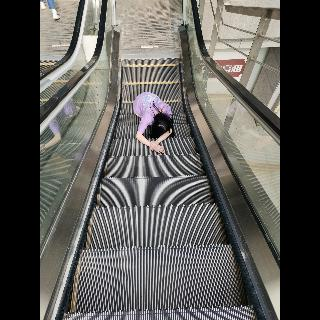anomaly: (126, 90, 180, 154)
